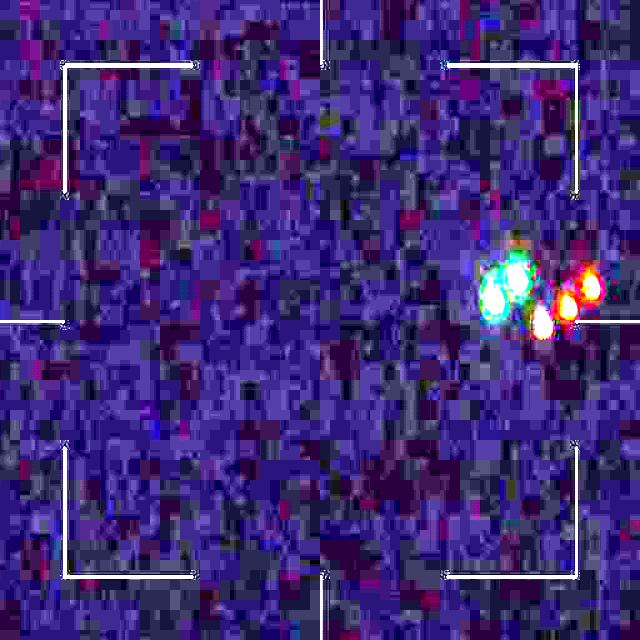bird: (482, 259, 601, 336)
